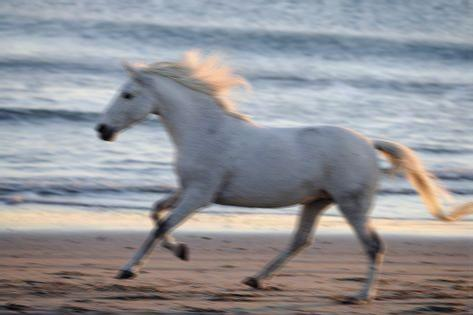horse: (93, 46, 473, 304)
